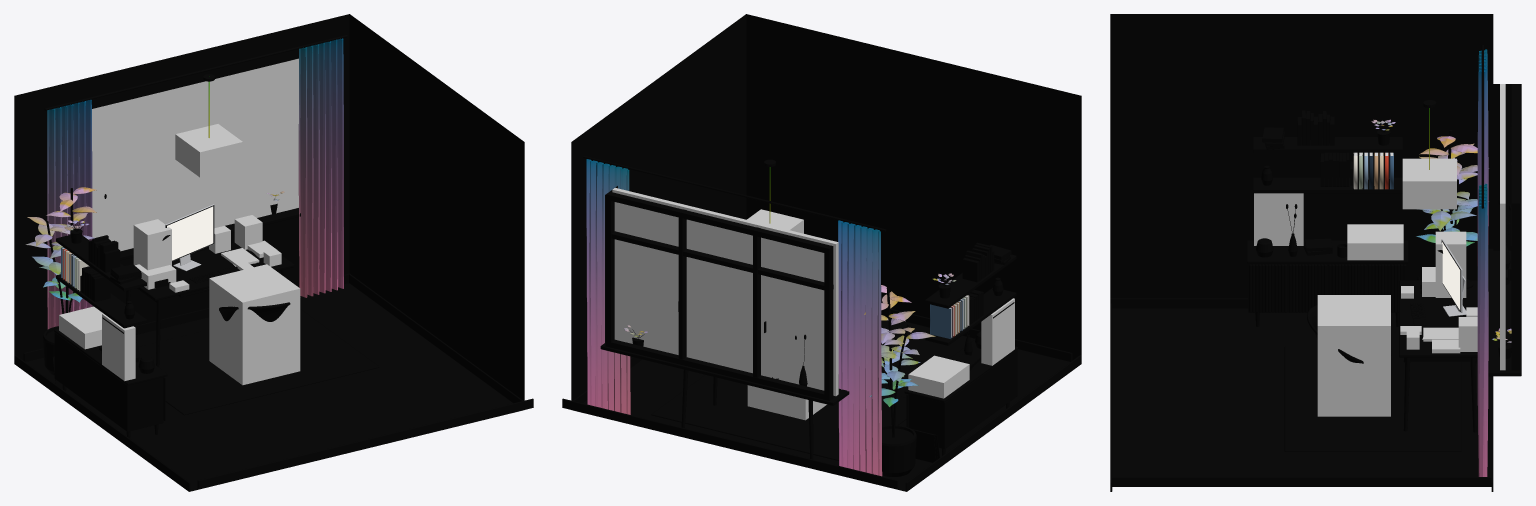
Rendered from studio.glb.
The picture shows the model from 3 angles, left to right: view 1: azimuth 30°, elevation 25°; view 2: azimuth 150°, elevation 25°; view 3: azimuth 270°, elevation 25°; orthographic projection. The views are drawn at different scales.
Visible parts, largest first — view 1: bake_walls, bake_floor, hit_window, bake_furniture, hit_chair, bake_props, hit_pendant, hit_print, hit_desk_lamp, screen, hit_record, hit_globe (+1 smaller); view 2: bake_walls, hit_window, bake_furniture, bake_props, bake_floor, hit_record, hit_print, hit_chair, hit_pendant, folio_07_cover; view 3: bake_walls, bake_floor, bake_furniture, hit_chair, bake_props, hit_pendant, hit_print, hit_record, hit_window, hit_desk_lamp, screen, hit_globe (+1 smaller).
Boxes of the visible parts, left/top/right/bottom form: bake_walls: left=14, top=14, right=533, bottom=491; bake_floor: left=15, top=283, right=518, bottom=491; hit_window: left=92, top=58, right=298, bottom=251; bake_furniture: left=54, top=74, right=379, bottom=438; hit_chair: left=209, top=264, right=300, bottom=385; bake_props: left=25, top=187, right=284, bottom=388; hit_pendant: left=175, top=124, right=242, bottom=177; hit_print: left=102, top=313, right=135, bottom=381; hit_desk_lamp: left=133, top=219, right=171, bottom=270; screen: left=167, top=206, right=213, bottom=260; hit_record: left=59, top=306, right=103, bottom=349; hit_globe: left=234, top=215, right=262, bottom=249; bake_walls: left=562, top=14, right=1081, bottom=491; hit_window: left=612, top=187, right=838, bottom=396; bake_furniture: left=651, top=159, right=1017, bottom=460; bake_props: left=624, top=242, right=1014, bottom=476; bake_floor: left=578, top=317, right=1080, bottom=491; hit_record: left=908, top=355, right=969, bottom=398; hit_print: left=981, top=298, right=1014, bottom=365; hit_chair: left=747, top=385, right=826, bottom=420; hit_pendant: left=747, top=209, right=803, bottom=233; folio_07_cover: left=930, top=304, right=951, bottom=338; bake_walls: left=1110, top=14, right=1521, bottom=491; bake_floor: left=1112, top=308, right=1491, bottom=476; bake_furniture: left=1247, top=100, right=1477, bottom=451; hit_chair: left=1317, top=295, right=1390, bottom=416; bake_props: left=1256, top=110, right=1511, bottom=358; hit_pendant: left=1402, top=158, right=1456, bottom=209; hit_print: left=1254, top=193, right=1303, bottom=245; hit_record: left=1347, top=224, right=1403, bottom=260; hit_window: left=1500, top=84, right=1505, bottom=370; hit_desk_lamp: left=1435, top=231, right=1466, bottom=297; screen: left=1442, top=242, right=1460, bottom=310; hit_globe: left=1458, top=317, right=1477, bottom=351.
Size of the model in its own units: 3.74 by 2.75 by 3.49.
